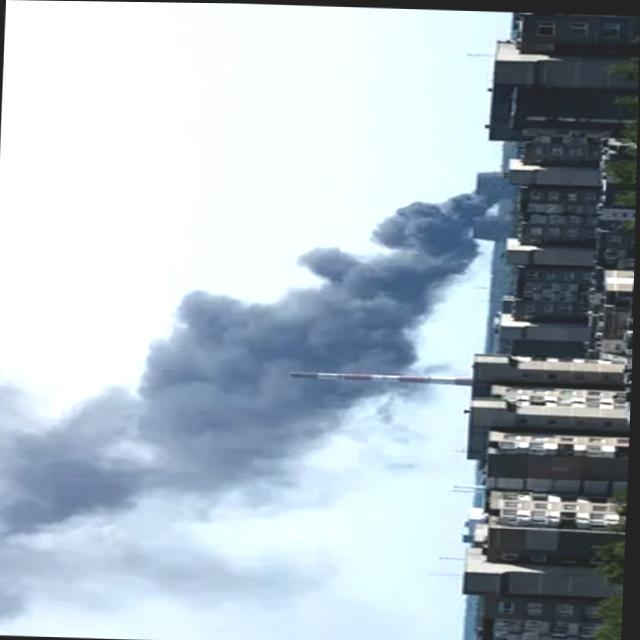no_helmet: (0, 171, 490, 640)
